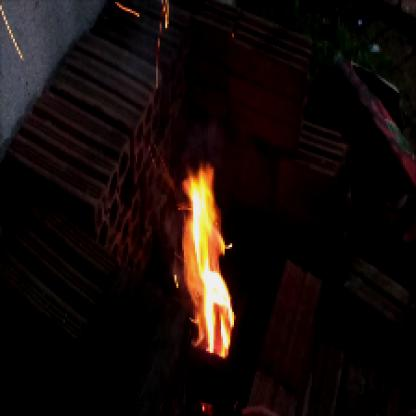Fire: (167, 162, 236, 360)
